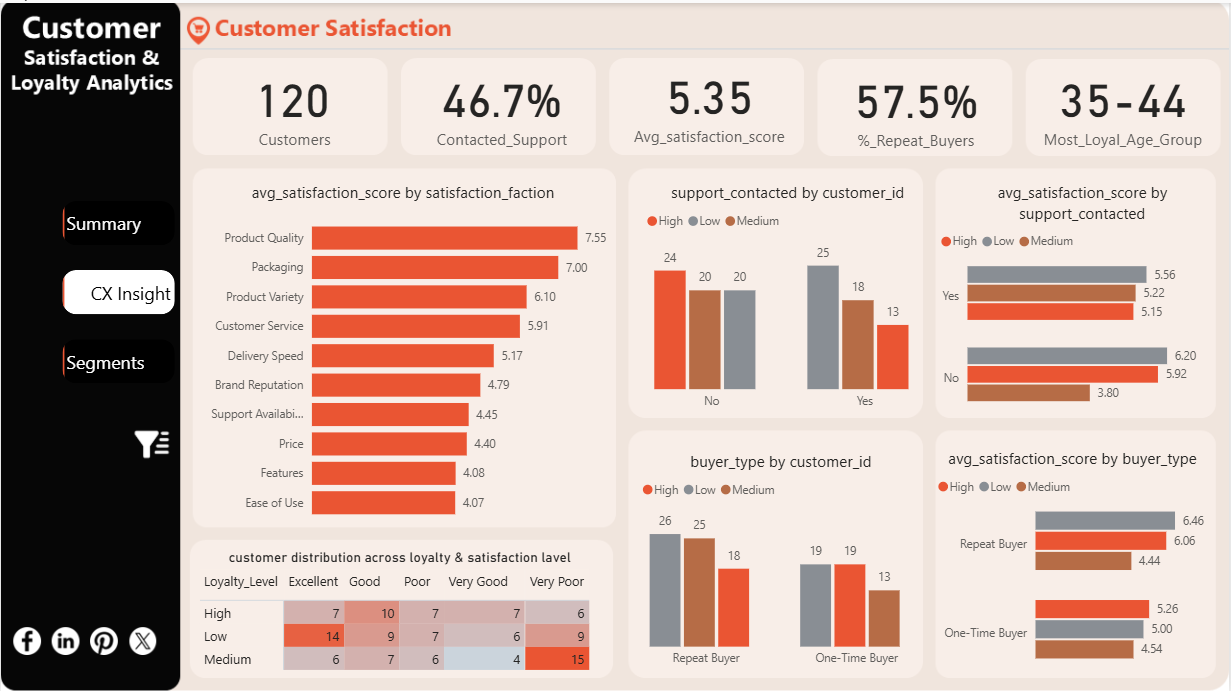

The dashboard page shown, as its layout file describes it:
{"tool":"powerbi","page":{"name":"CX Insight","canvas":[1280,720],"ordinal":1},"visuals":[{"type":"clusteredColumnChart","title":"buyer_type by customer_id","fields":{"Category":["Customer_Dataset.Buyer_Type"],"Series":["Customer_Dataset.Loyalty_Level"],"Y":["CountNonNull(Customer_Dataset.Customer_ID)"]},"box":[662.7,465.9,300.2,234.6],"z":0},{"type":"clusteredColumnChart","title":" support_contacted by customer_id","fields":{"Category":["Customer_Dataset.Support_Contacted"],"Series":["Customer_Dataset.Loyalty_Level"],"Y":["CountNonNull(Customer_Dataset.Customer_ID)"]},"box":[667.6,185.4,305.1,246.1],"z":1000},{"type":"pivotTable","title":"customer distribution across loyalty & satisfaction lavel","fields":{"Columns":["Customer_Dataset.Satisfaction_Level"],"Rows":["Customer_Dataset.Loyalty_Level"],"Values":["CountNonNull(Customer_Dataset.Customer_ID)"]},"box":[201.8,569.2,428.1,131.2],"z":2000},{"type":"card","fields":{"Values":["All_Measures.Total customers"]},"box":[206.7,56,194.3,100],"z":3000},{"type":"card","fields":{"Values":["All_Measures.Avg_satisfaction_score"]},"box":[639.5,53.1,197.1,100],"z":4000},{"type":"card","fields":{"Values":["All_Measures.%_Who_Contacted_Support"]},"box":[426.7,56,190,100],"z":5000},{"type":"card","fields":{"Values":["All_Measures.%_Repeat_Buyers"]},"box":[858.1,57.4,190,98.6],"z":6000},{"type":"pageNavigator","box":[63.6,206.8,117.7,190.9],"z":7000},{"type":"actionButton","box":[133.6,435.8,47.7,47.7],"z":8000},{"type":"card","fields":{"Values":["All_Measures.Most_Loyal_Age_Group"]},"box":[1073.3,56.7,190,100],"z":10000},{"type":"clusteredBarChart","title":"avg_satisfaction_score by support_contacted","fields":{"Category":["Customer_Dataset.Support_Contacted"],"Series":["Customer_Dataset.Loyalty_Level"],"Y":["All_Measures.Avg_satisfaction_score"]},"box":[973.7,186,306.3,245.4],"z":11000},{"type":"clusteredBarChart","title":"avg_satisfaction_score by buyer_type","fields":{"Category":["Customer_Dataset.Buyer_Type"],"Series":["Customer_Dataset.Loyalty_Level"],"Y":["All_Measures.Avg_satisfaction_score"]},"box":[971.1,462.6,292,237.8],"z":12000},{"type":"clusteredBarChart","title":"avg_satisfaction_score by satisfaction_faction","fields":{"Category":["Customer_Dataset.Satisfaction_Factor"],"Y":["All_Measures.Avg_satisfaction_score"]},"box":[201.8,185.4,434.7,364.2],"z":13000}]}

Visuals, with their boxes in screenshot pixels (x1, y1, x2, y2), scaled from the page's 1280x720 canvas onto the 1231x691 screenshot:
"buyer_type by customer_id" clusteredColumnChart: box(637, 447, 926, 672)
" support_contacted by customer_id" clusteredColumnChart: box(642, 178, 935, 414)
"customer distribution across loyalty & satisfaction lavel" pivotTable: box(194, 546, 606, 672)
card - All_Measures.Total customers: box(199, 54, 386, 150)
card - All_Measures.Avg_satisfaction_score: box(615, 51, 805, 147)
card - All_Measures.%_Who_Contacted_Support: box(410, 54, 593, 150)
card - All_Measures.%_Repeat_Buyers: box(825, 55, 1008, 150)
pageNavigator: box(61, 198, 174, 382)
actionButton: box(128, 418, 174, 464)
card - All_Measures.Most_Loyal_Age_Group: box(1032, 54, 1215, 150)
"avg_satisfaction_score by support_contacted" clusteredBarChart: box(936, 179, 1230, 414)
"avg_satisfaction_score by buyer_type" clusteredBarChart: box(934, 444, 1215, 672)
"avg_satisfaction_score by satisfaction_faction" clusteredBarChart: box(194, 178, 612, 527)
